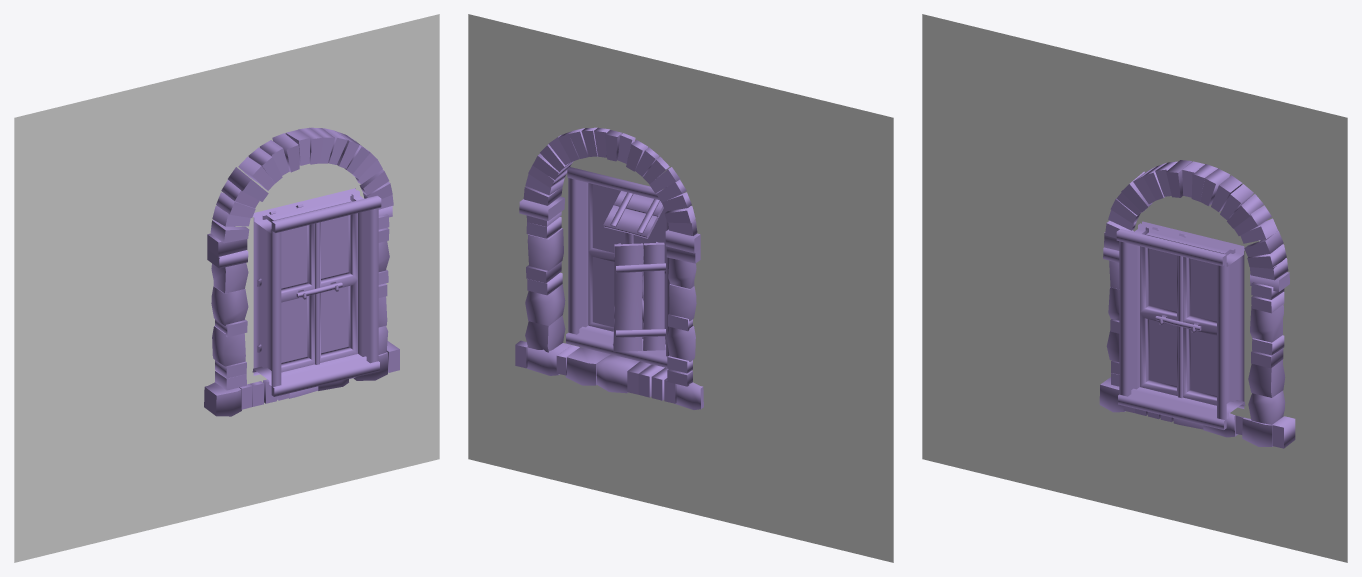
File: window_d_outside_variant_c.fbx
The picture shows the model from 3 angles, left to right: view 1: azimuth 30°, elevation 25°; view 2: azimuth 150°, elevation 25°; view 3: azimuth 330°, elevation 25°; orthographic projection.
Visible parts, largest first — view 1: Plane.065, Plane.067, Plane.062; view 2: Plane.065, Plane.067, Plane.063, Plane.062, Plane.064; view 3: Plane.065, Plane.067, Plane.062.
Boxes of the visible parts, x1,y1,x2,y2 form: Plane.065: (14,14,439,562); Plane.067: (204,127,399,416); Plane.062: (281,215,348,362); Plane.065: (468,14,893,562); Plane.067: (515,127,703,409); Plane.063: (613,242,665,351); Plane.062: (592,184,665,339); Plane.064: (603,191,663,238); Plane.065: (922,14,1347,562); Plane.067: (1099,160,1295,448); Plane.062: (1149,248,1216,395).
Size of the model in its own units: 5 by 5 by 0.844.
